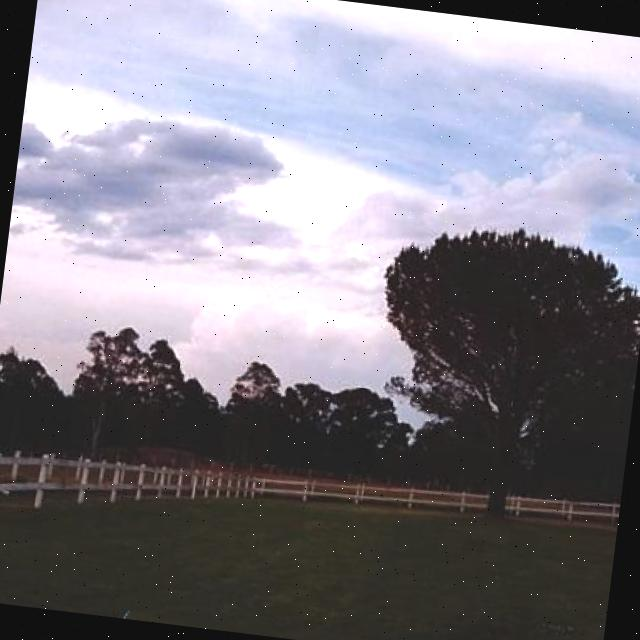Cs: (8, 13, 389, 292)
